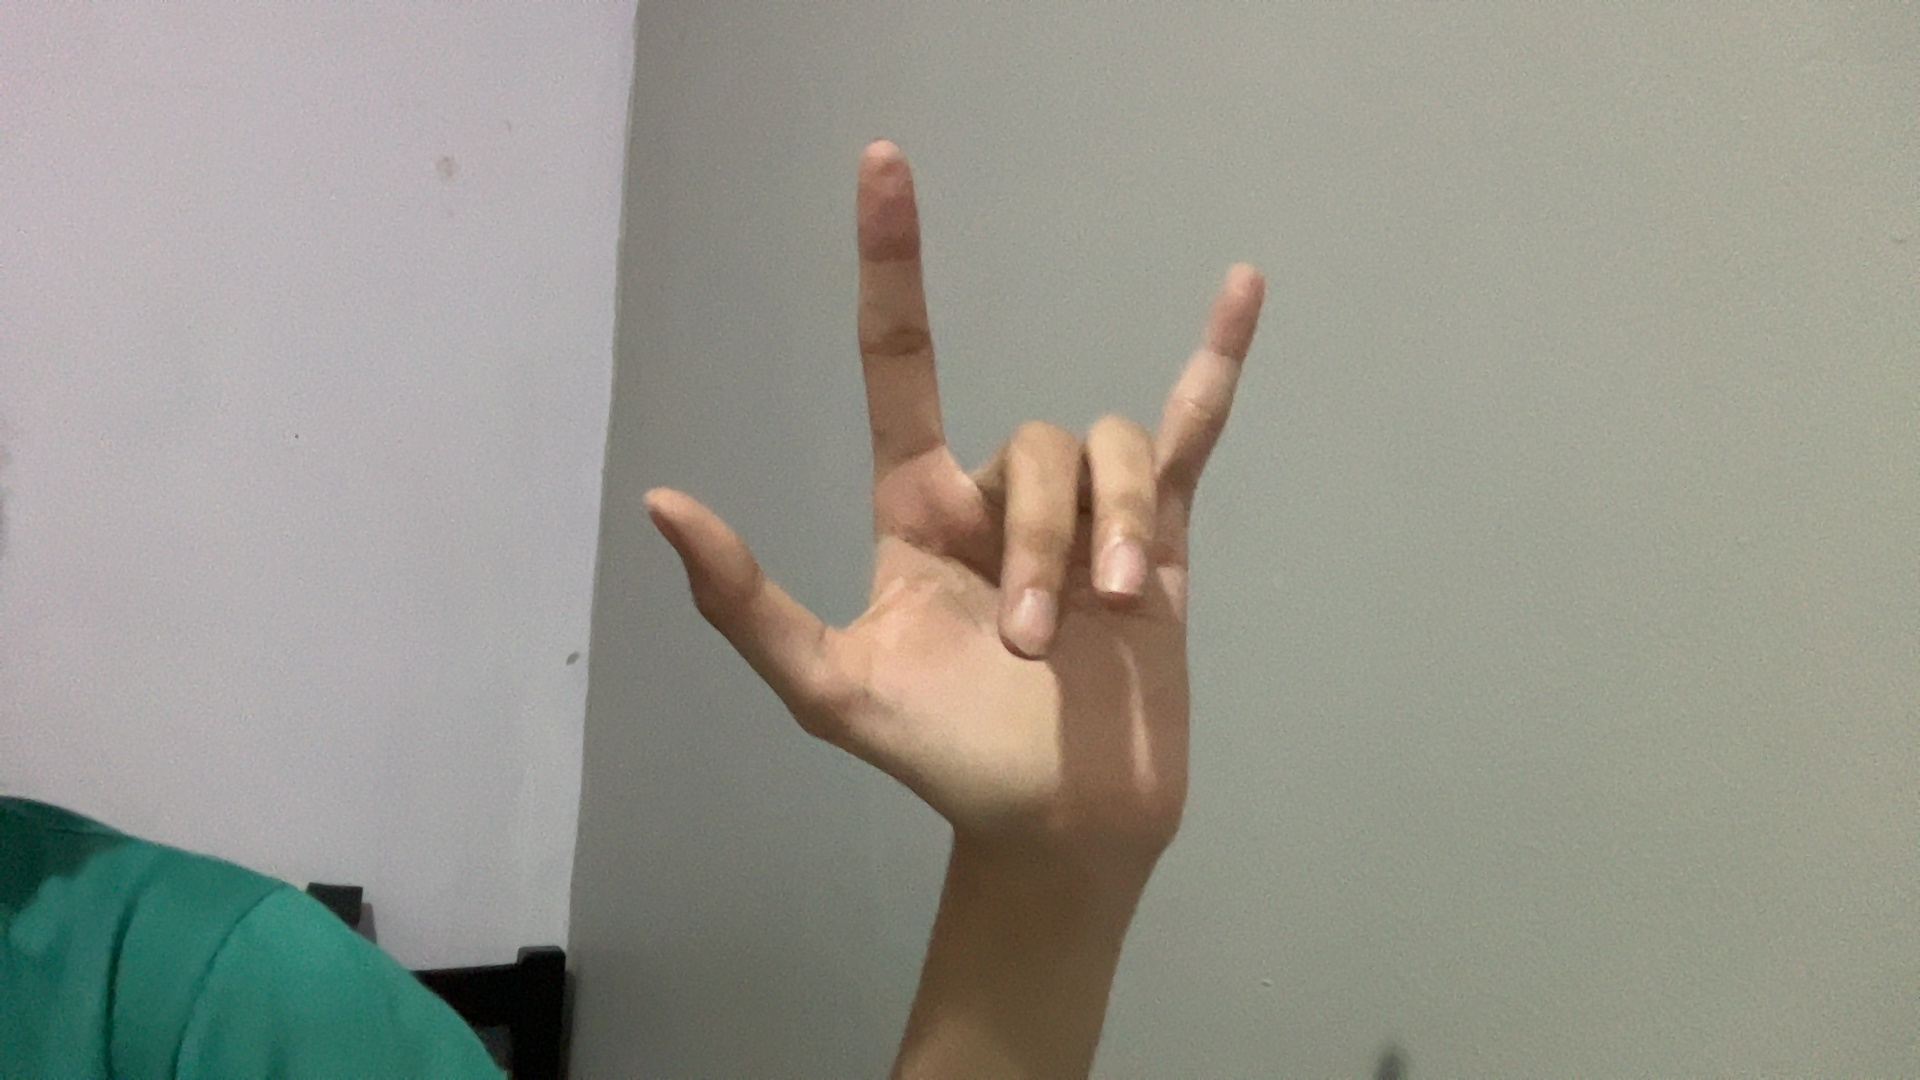I Love You: (356, 82, 1556, 913)
